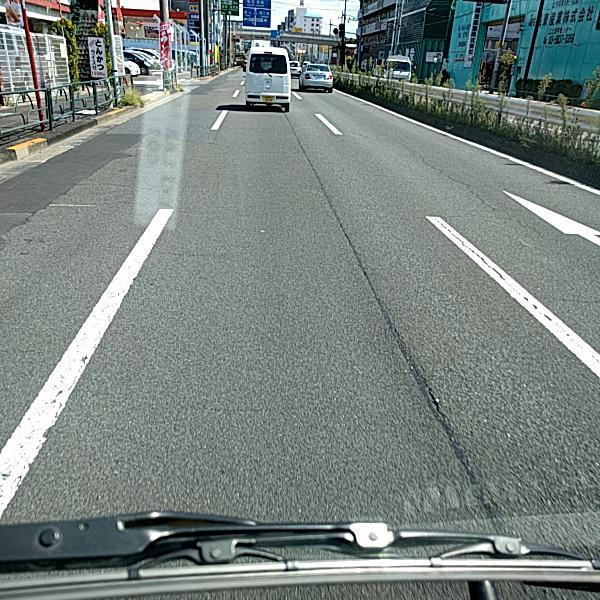D00: (424, 161, 543, 236)
